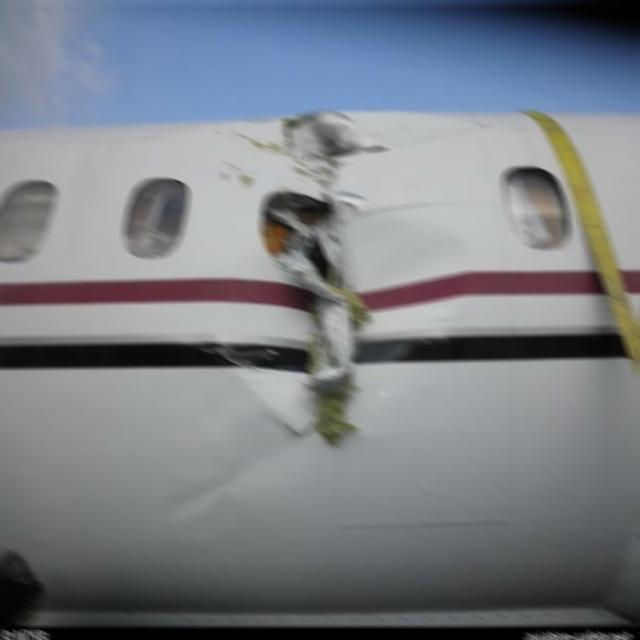crack: (254, 99, 396, 453)
dent: (360, 218, 475, 361), (157, 425, 309, 530)
